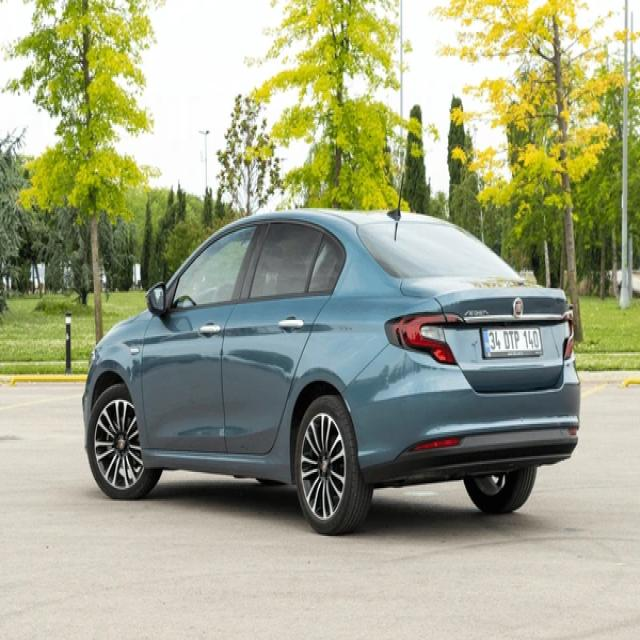fiat: (512, 296, 530, 319)
